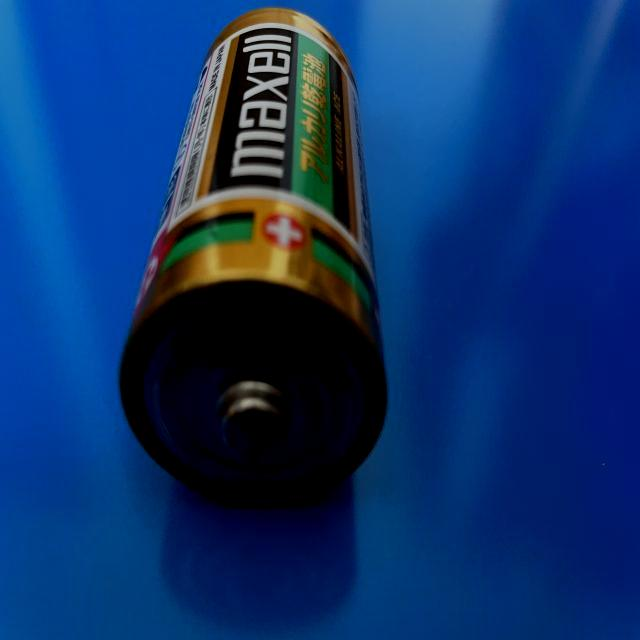AA: (117, 1, 397, 534)
